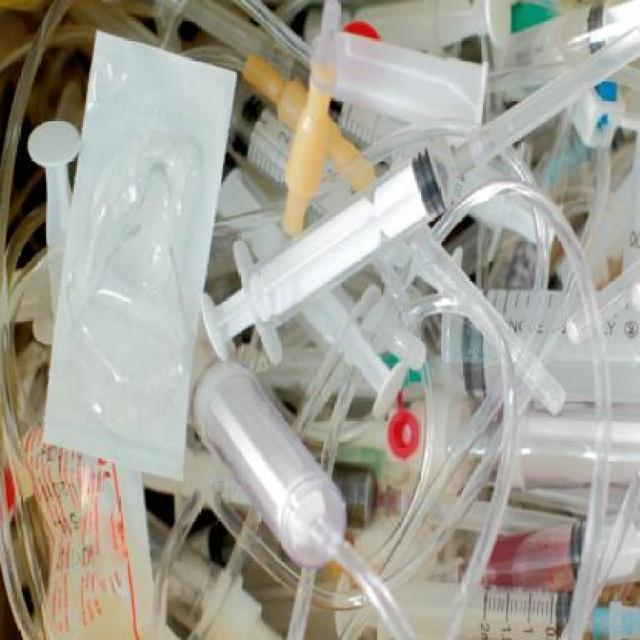garbage: (6, 11, 632, 636)
